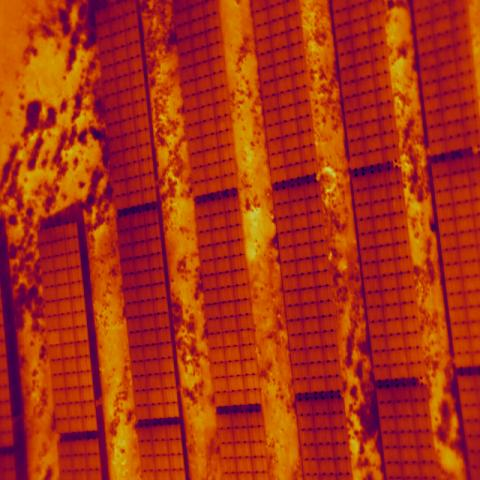fault: (46, 329, 61, 346)
